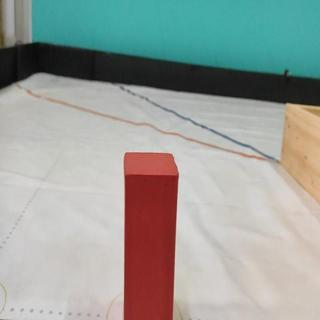redbox: (123, 151, 178, 320)
